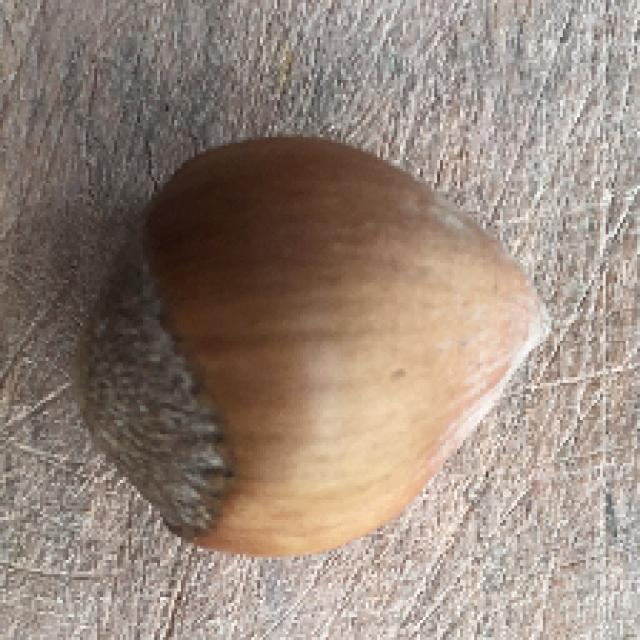qualityHazelnut: (79, 134, 551, 560)
